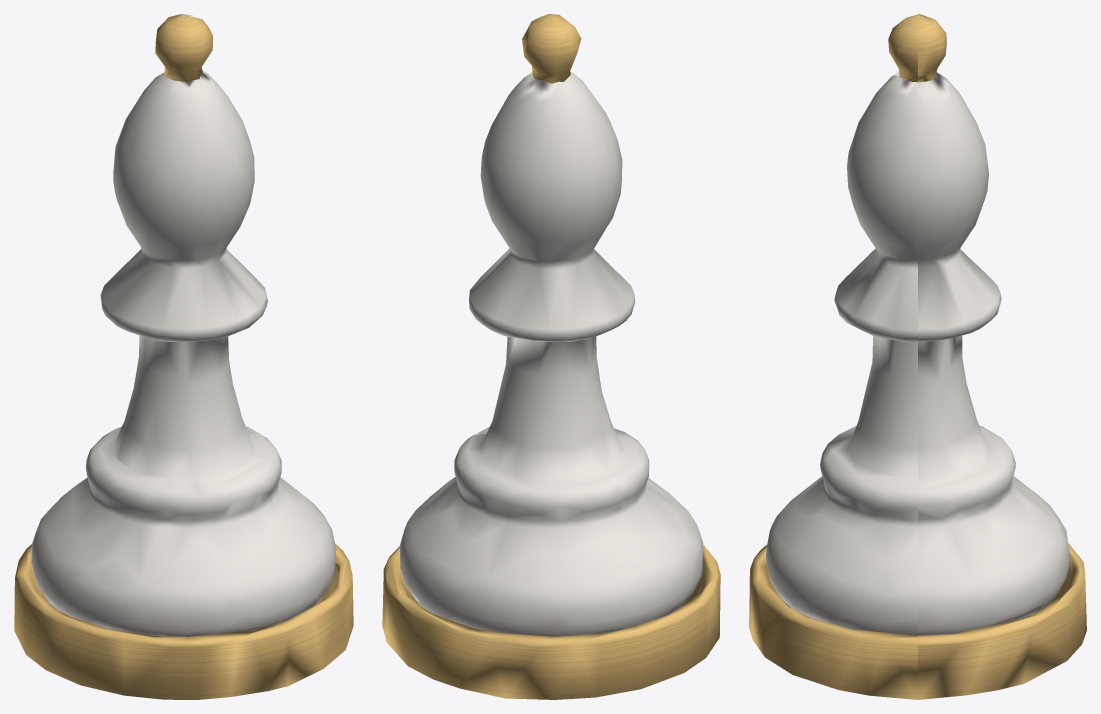
The model's file is aurum_bishop_white.glb.
The picture shows the model from 3 angles, left to right: view 1: azimuth 30°, elevation 25°; view 2: azimuth 150°, elevation 25°; view 3: azimuth 270°, elevation 25°; orthographic projection.
Visible parts, largest first — view 1: Aurum Ivoire – Bishop; view 2: Aurum Ivoire – Bishop; view 3: Aurum Ivoire – Bishop.
Part boxes in pixels (bbox=[...]): Aurum Ivoire – Bishop: bbox=[14, 14, 353, 699]; Aurum Ivoire – Bishop: bbox=[382, 14, 720, 699]; Aurum Ivoire – Bishop: bbox=[749, 14, 1086, 699].
Bounding box in the file's own units: 0.0399 × 0.08 × 0.04.
2 materials, 1 textured.
